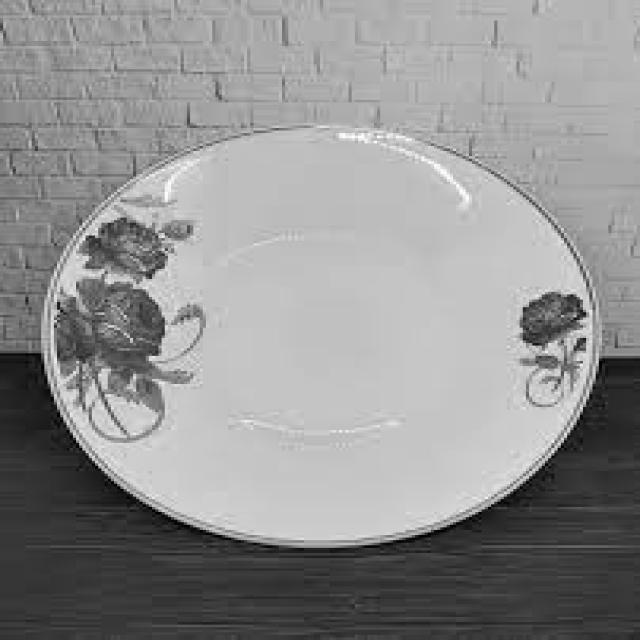dish: (29, 51, 613, 573)
